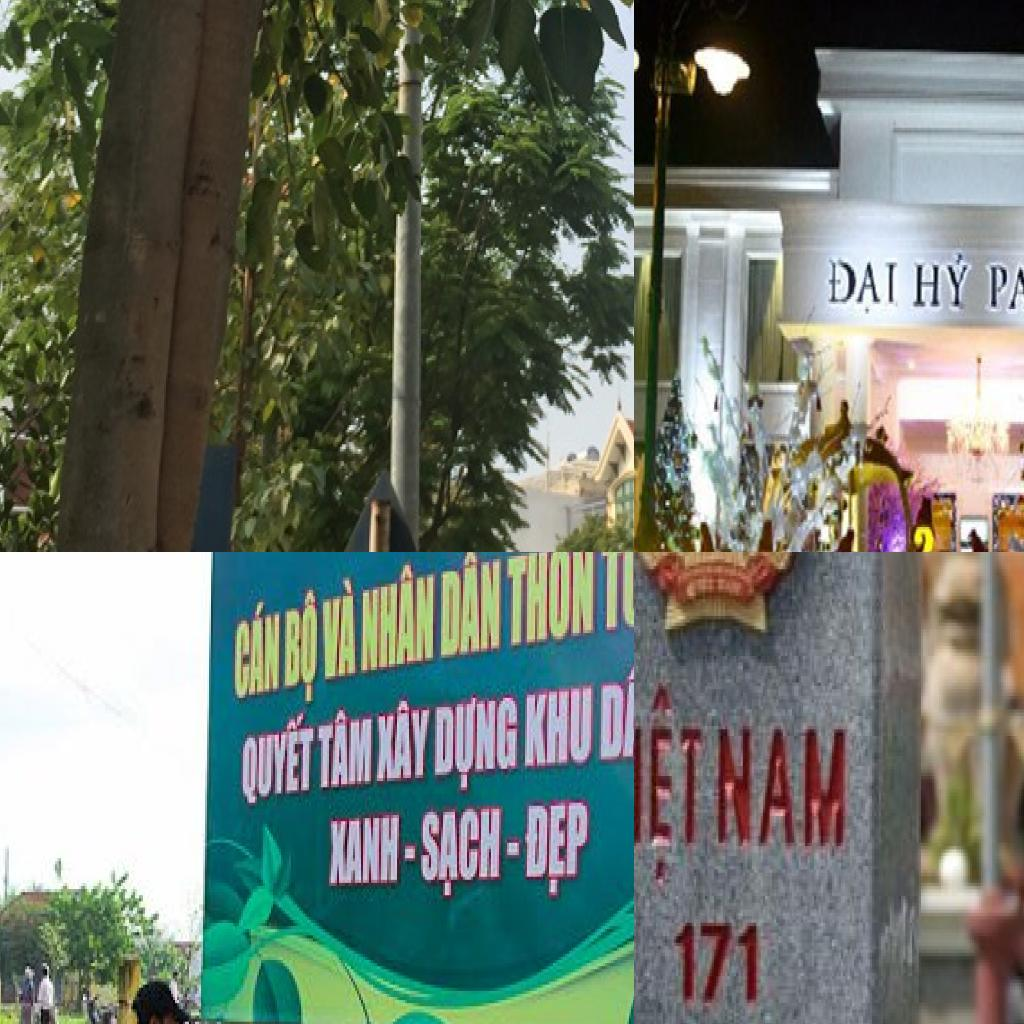text: (709, 720, 852, 860), (634, 675, 705, 889), (359, 559, 437, 676), (505, 552, 597, 651), (433, 692, 519, 796), (417, 806, 503, 901), (241, 710, 317, 809), (521, 800, 591, 902), (439, 552, 503, 660), (523, 682, 595, 772), (373, 695, 435, 787), (327, 815, 403, 889), (233, 596, 283, 707), (317, 704, 375, 793), (827, 258, 900, 318), (910, 248, 974, 316), (285, 587, 319, 713), (321, 578, 359, 686), (599, 660, 634, 765), (599, 552, 634, 636), (985, 257, 1024, 316)
